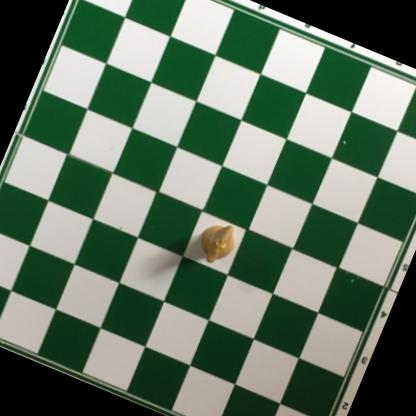white-knight: (191, 215, 243, 270)
